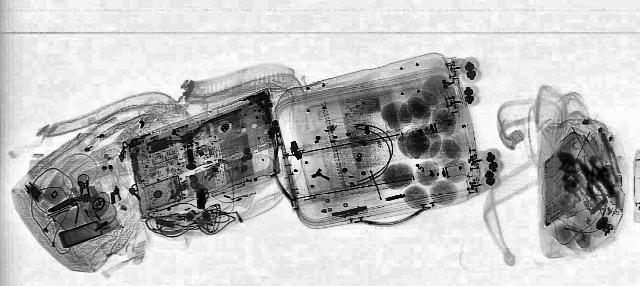Pliers: (594, 131, 622, 175)
